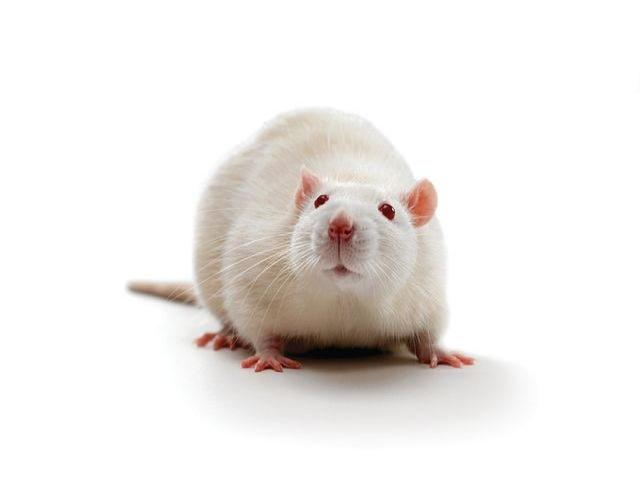Tikus: (121, 102, 479, 376)
